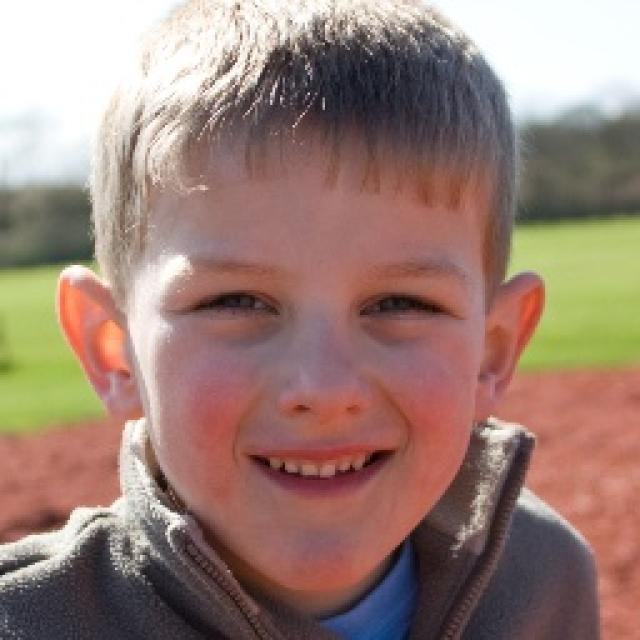earlobe: (54, 266, 143, 422), (471, 272, 546, 422)
